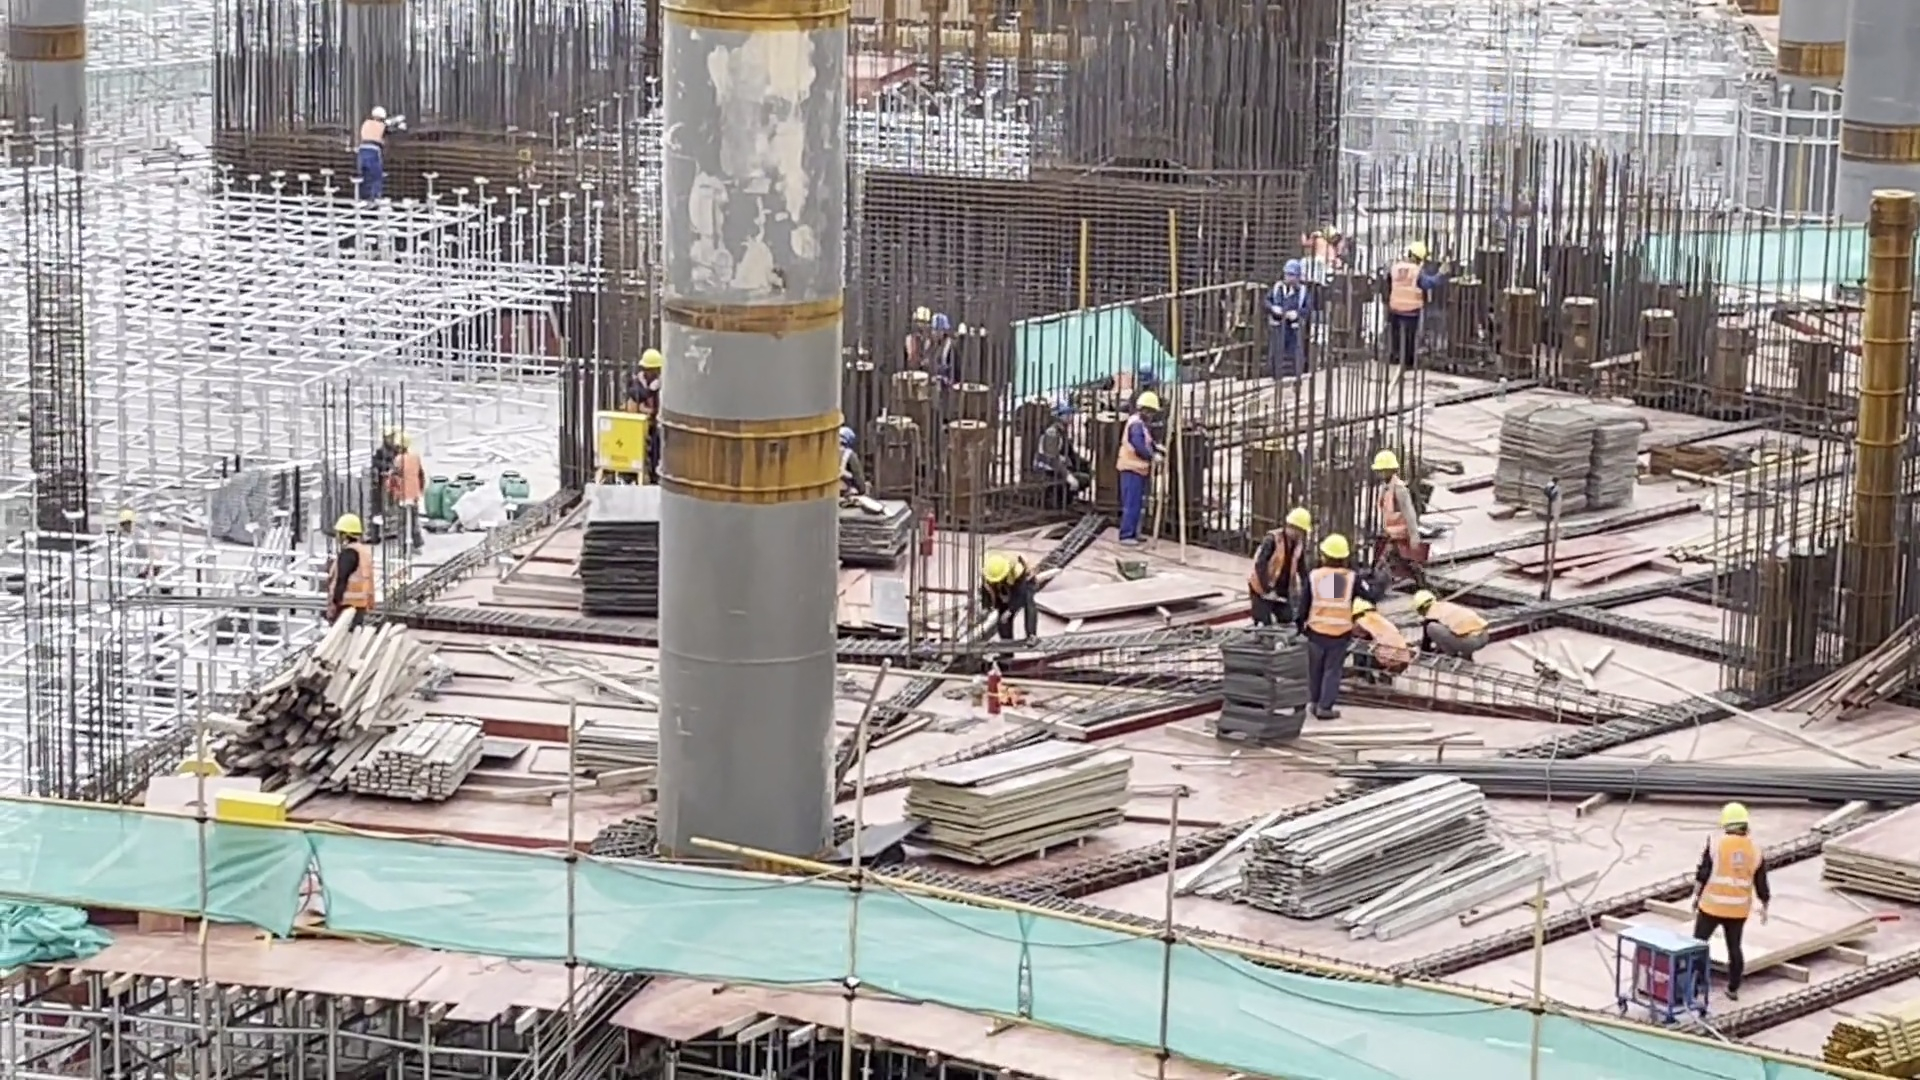board: (898, 736, 1137, 865), (1818, 810, 1920, 906)
ebox: (590, 408, 651, 486)
helmet: (982, 552, 1014, 584), (1319, 533, 1350, 562), (330, 511, 365, 536), (1721, 801, 1750, 828), (1285, 505, 1312, 534), (1373, 448, 1402, 472), (636, 347, 664, 371), (1133, 392, 1162, 412), (1350, 596, 1376, 616)
person: (1695, 797, 1771, 999), (1306, 534, 1358, 726), (1380, 237, 1451, 365), (1240, 510, 1317, 625), (1362, 441, 1420, 592), (1113, 386, 1164, 545), (317, 506, 369, 637), (1418, 588, 1495, 672), (980, 543, 1046, 641), (1038, 401, 1095, 512), (1264, 256, 1317, 372), (1357, 597, 1418, 686), (393, 436, 433, 557), (838, 421, 878, 506), (357, 103, 393, 196), (935, 314, 960, 386), (635, 344, 662, 405), (904, 305, 928, 370), (1305, 225, 1335, 265)
vest: (1700, 835, 1761, 920), (1248, 526, 1304, 603), (1353, 615, 1413, 672), (1309, 570, 1358, 638), (330, 541, 374, 610), (1115, 413, 1157, 476), (1423, 601, 1490, 635), (1378, 481, 1413, 538), (1391, 261, 1426, 317)
wood: (213, 617, 444, 796), (349, 714, 491, 810)
